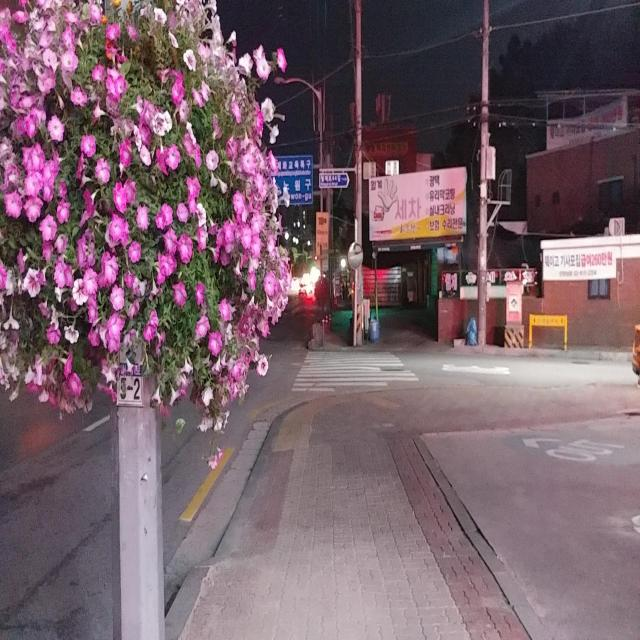횡단보도: (291, 350, 420, 393)
